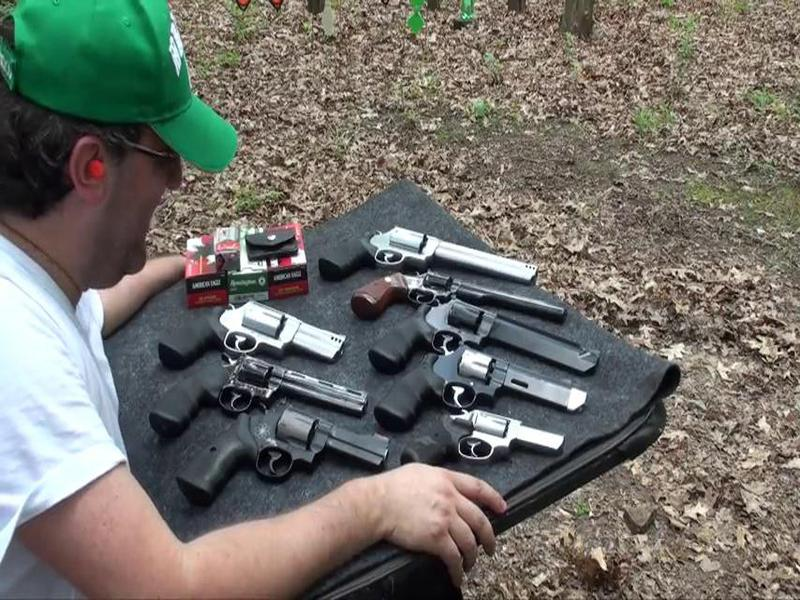Revolver: (157, 339, 363, 438)
